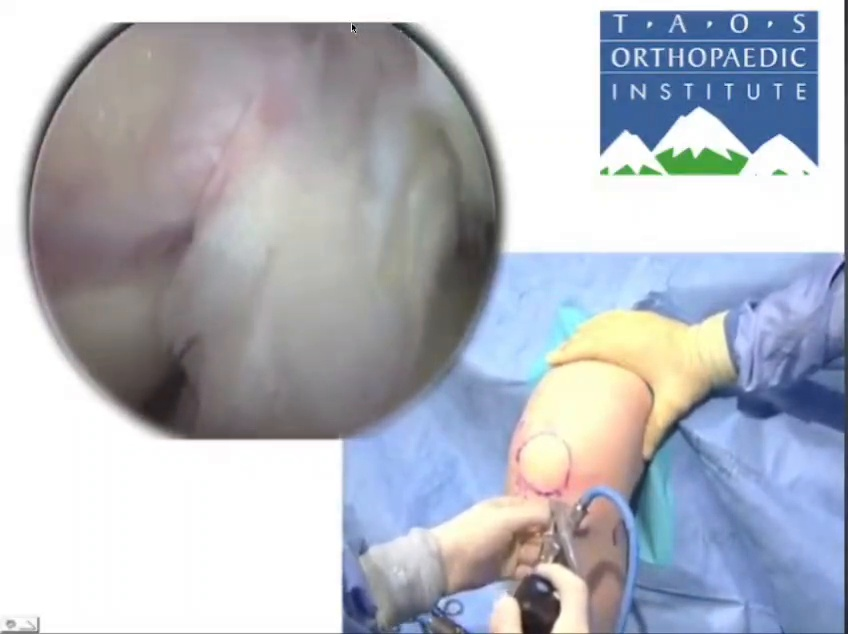probe: (424, 147, 459, 291)
